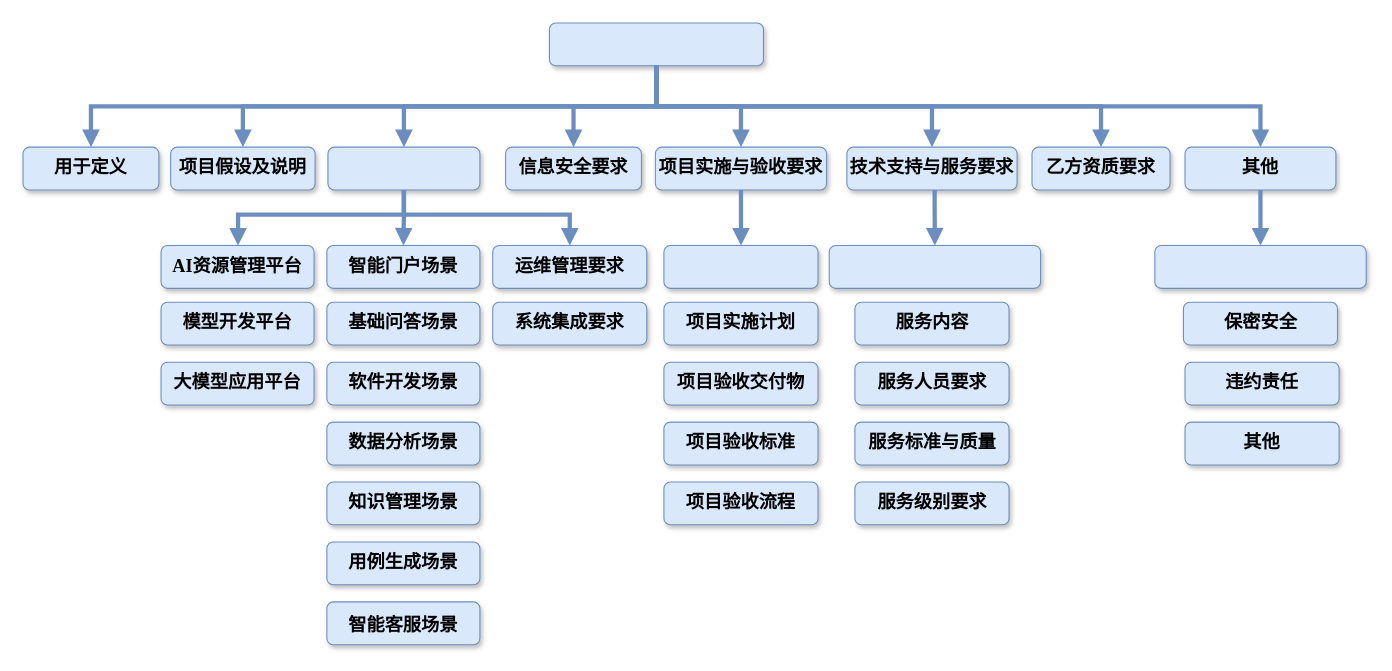
This 1392x671 diagram has some shape labels left out. Here are the shapes that lost their labels. From the top down, the centre of each, then its label:
At pixel 657 45: "技术协议书".
At pixel 404 169: "项目内容".
At pixel 741 268: "项目实施团队要求".
At pixel 935 268: "软件产品质保和升级服务要求".
At pixel 1261 268: "软件所有权及许可、知识产权".
